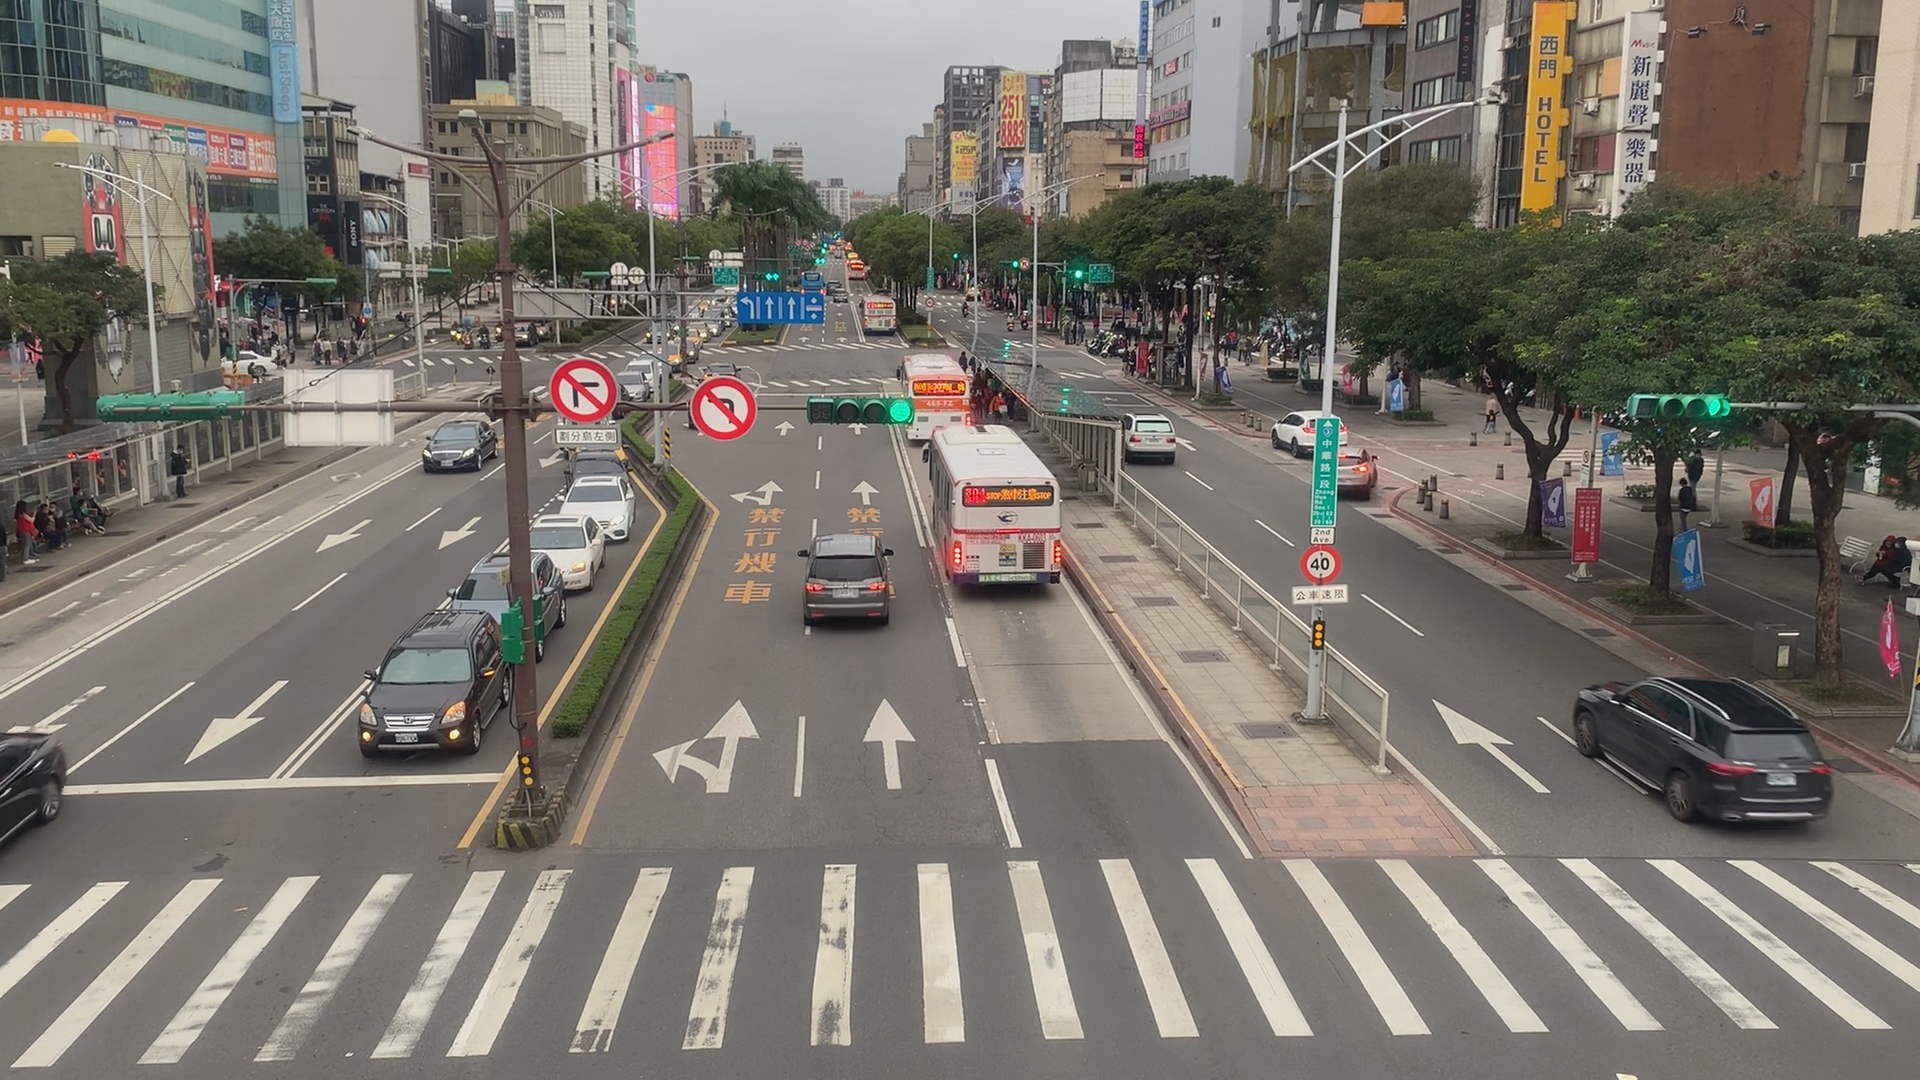Bus: (928, 425, 1073, 593), (902, 349, 969, 458), (856, 293, 910, 342)
Private Passenger Car: (1580, 655, 1850, 845), (324, 611, 516, 753), (1, 705, 99, 858), (448, 550, 560, 654), (498, 512, 616, 603), (800, 533, 895, 624), (553, 472, 645, 539), (411, 413, 504, 477), (1321, 433, 1395, 504), (563, 446, 641, 502), (1116, 405, 1176, 475), (1271, 402, 1345, 454), (207, 342, 287, 385), (597, 371, 659, 406)
